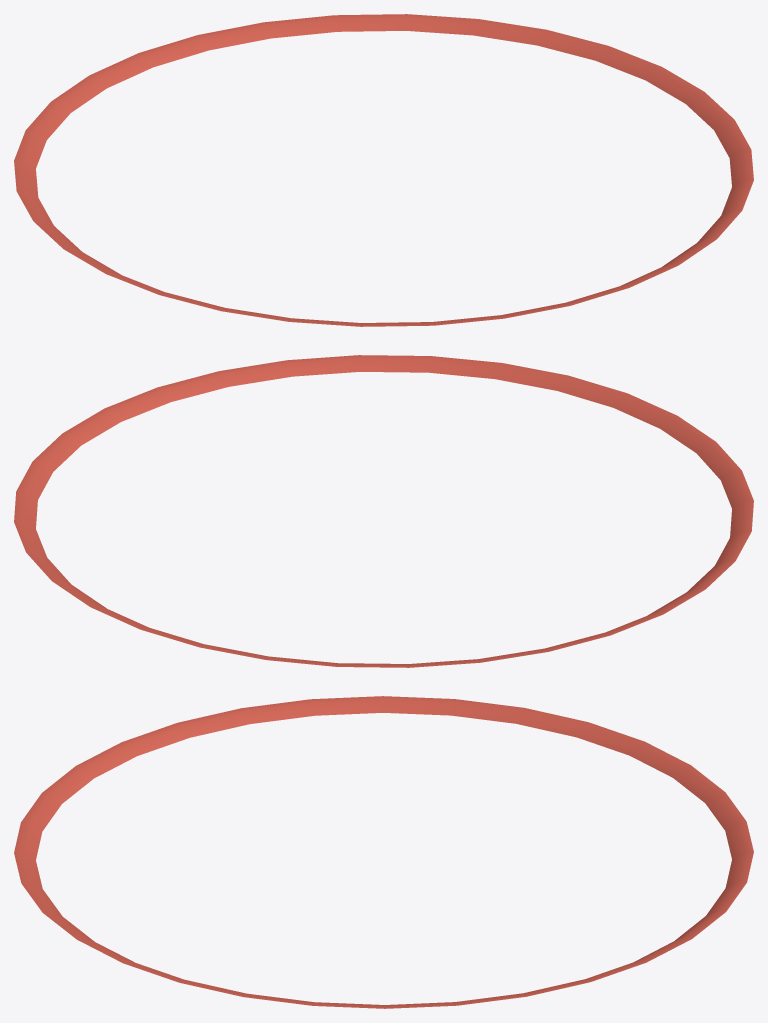
File: Floor_3.fbx
The picture shows the model from 3 angles, top to bottom: view 1: azimuth 30°, elevation 25°; view 2: azimuth 150°, elevation 25°; view 3: azimuth 270°, elevation 25°; orthographic projection.
Visible parts, largest first — view 1: Floor_2_Mesh; view 2: Floor_2_Mesh; view 3: Floor_2_Mesh.
Boxes of the visible parts, x1,y1,x2,y2 form: Floor_2_Mesh: (14,14,753,326); Floor_2_Mesh: (14,355,753,667); Floor_2_Mesh: (14,696,753,1008).
Bounding box in the file's own units: 36363 × 404 × 36363.
